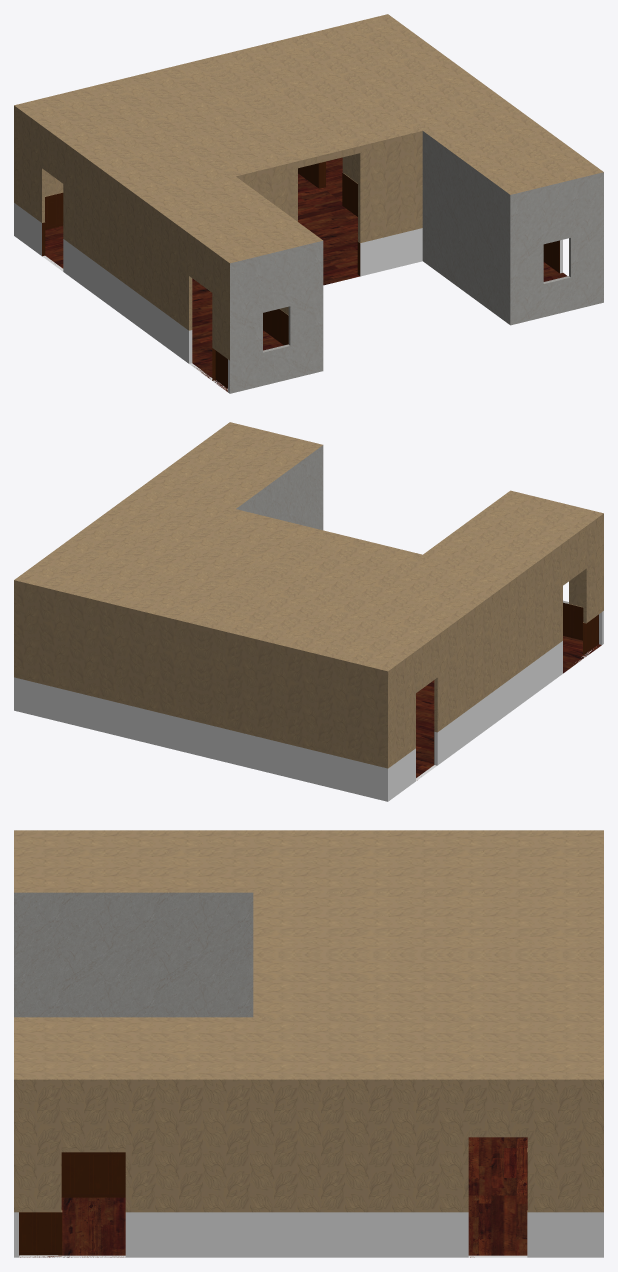
The model's file is Back.glb.
3 renders of one model, top to bottom at view 1: azimuth 30°, elevation 25°; view 2: azimuth 150°, elevation 25°; view 3: azimuth 270°, elevation 25°, orthographic. The views are drawn at different scales.
Parts seen in each view (by area): view 1: Cube, Plane; view 2: Cube, Plane; view 3: Cube, Plane.
Part boxes in pixels (x1=…): Cube: x1=14, y1=14, x2=603, y2=393; Plane: x1=45, y1=157, x2=567, y2=391; Cube: x1=14, y1=422, x2=603, y2=801; Plane: x1=416, y1=636, x2=601, y2=780; Cube: x1=14, y1=830, x2=603, y2=1257; Plane: x1=20, y1=1137, x2=527, y2=1257.
Bounding box in the file's own units: 12 × 4 × 12.
Materials: 6 (5 with a texture image).
